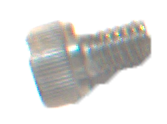M6-8mm: (20, 10, 156, 116)
